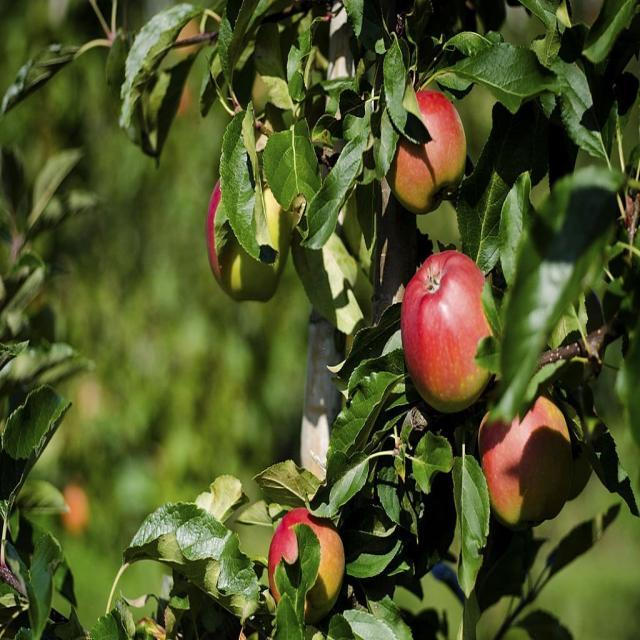Red Apple: (408, 255, 491, 395), (488, 400, 568, 523), (271, 506, 354, 602), (398, 92, 466, 207), (212, 174, 272, 291)
